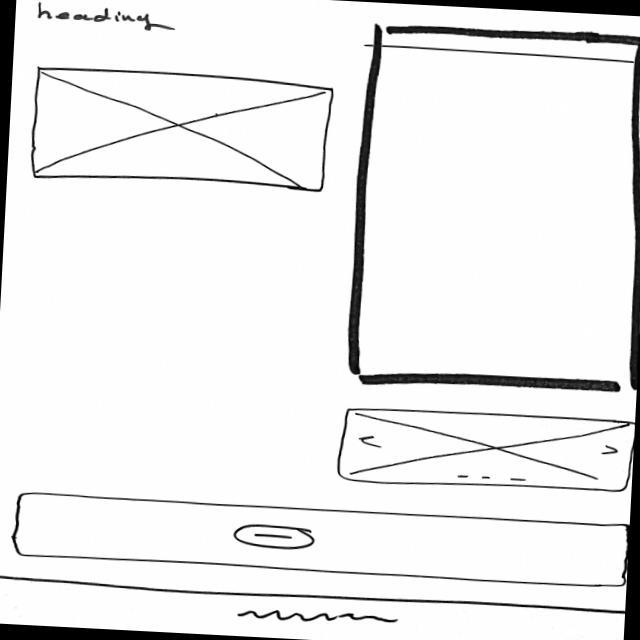container: (344, 19, 640, 400), (12, 491, 631, 595), (1, 575, 626, 640)
icon-button: (233, 525, 318, 553)
image: (30, 65, 339, 195), (335, 406, 636, 497)
label: (30, 3, 174, 34)
text: (229, 605, 404, 630)
